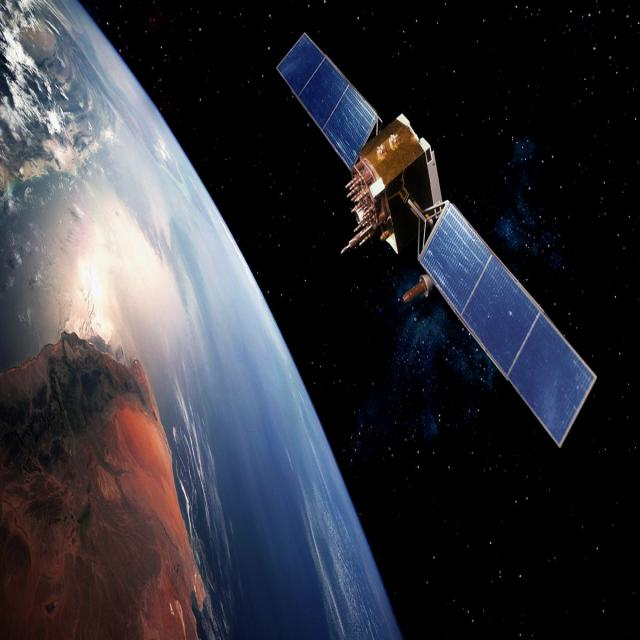satellite: (269, 21, 607, 454)
